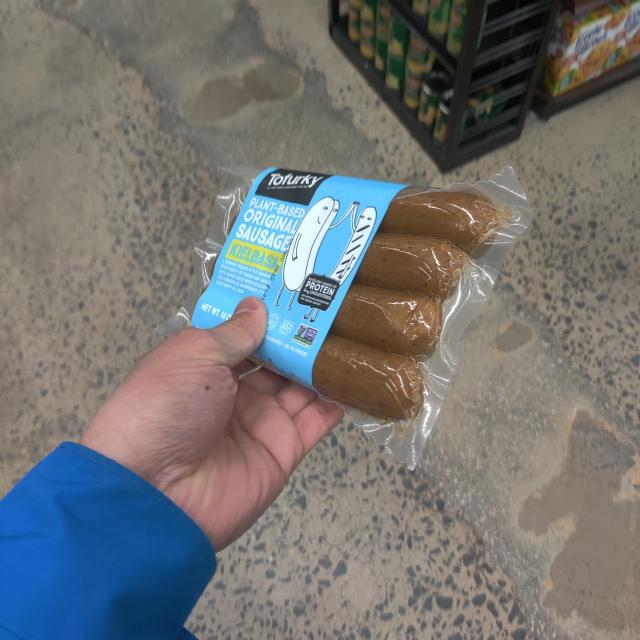Meat: (169, 170, 537, 442)
